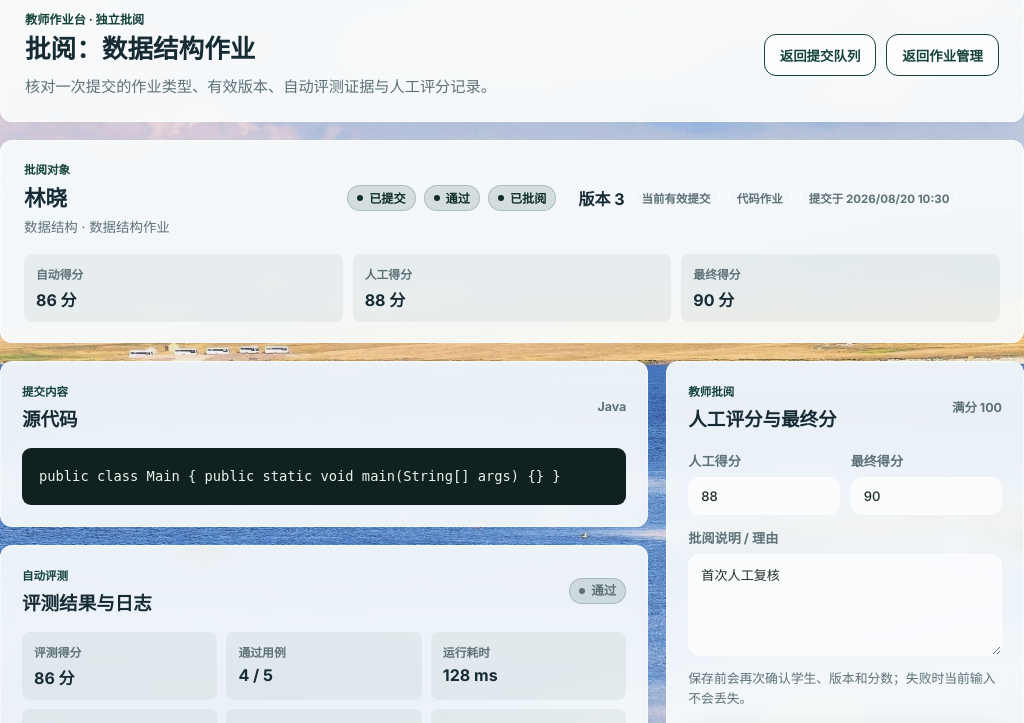
HomeworkSubmissionReviewView › retains review input and enables retry after a confirmed save fails
Replace the text in the number field named "manualScore" with "92": (764, 496) [688,477,840,515]
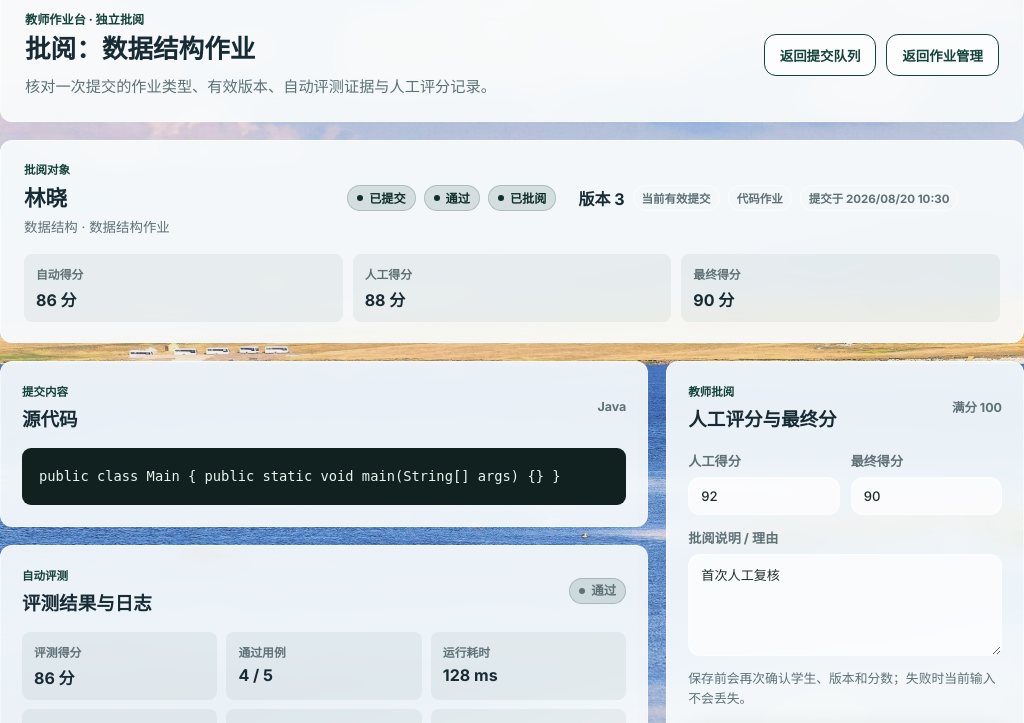
Replace the text in the number field named "finalScore" with "94": (926, 496) [851,477,1002,515]
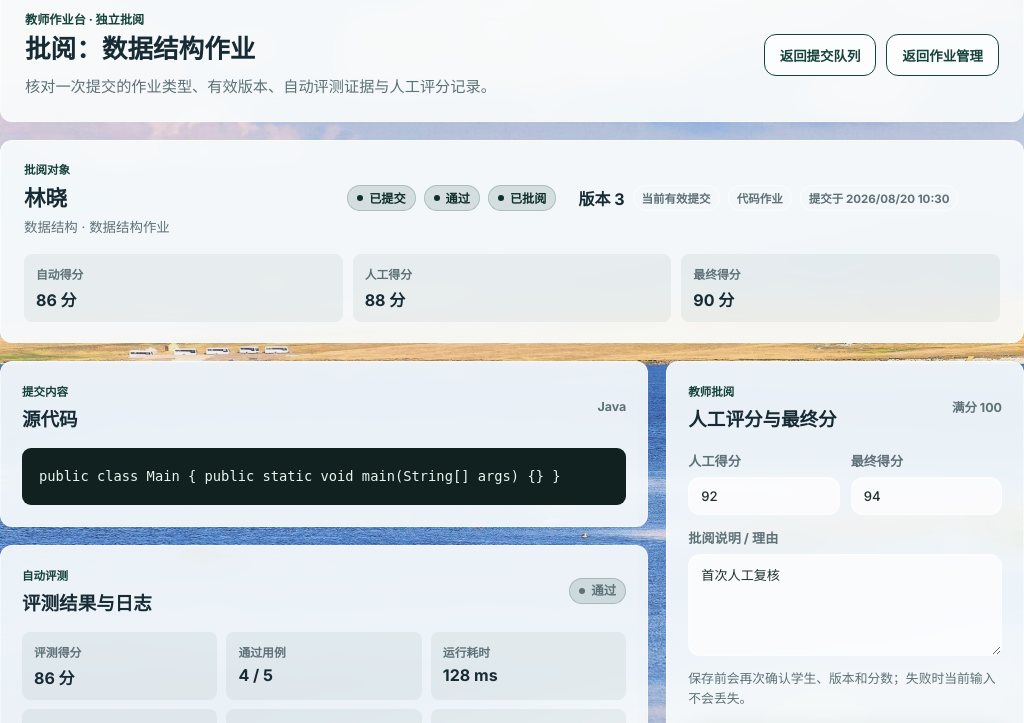
Replace the text in the text box named "reviewReason" with "保留这段批阅说明": (845, 605) [688,554,1002,656]
(page scrolled)
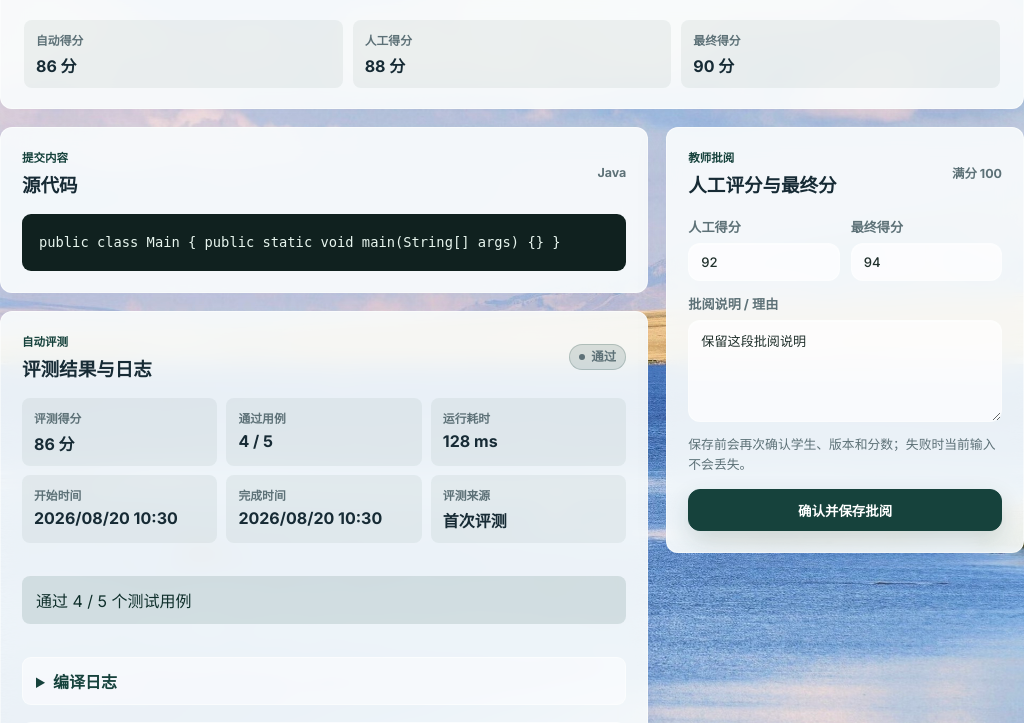
Submit the form, box [688,214,1002,531]
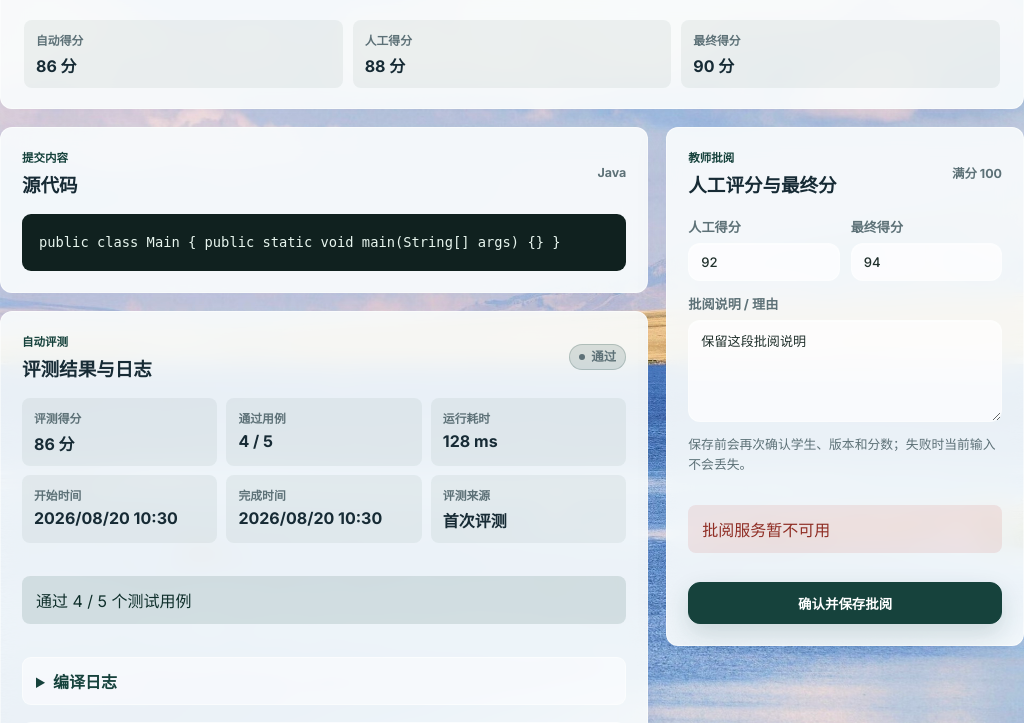
Expected: the button "确认并保存批阅" is enabled, [688,582,1002,624]
Expected: the message with test id "review-error" reads "批阅服务暂不可用", [702,520,830,540]
